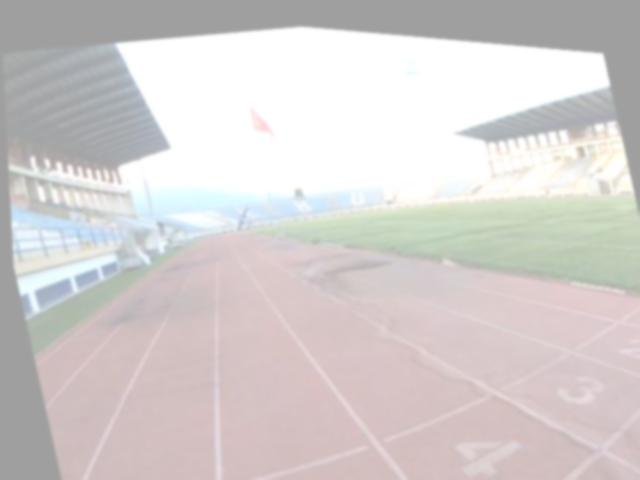uav: (227, 200, 254, 230)
